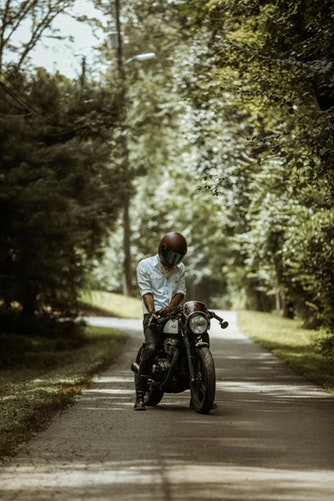helmet: (154, 229, 186, 267)
